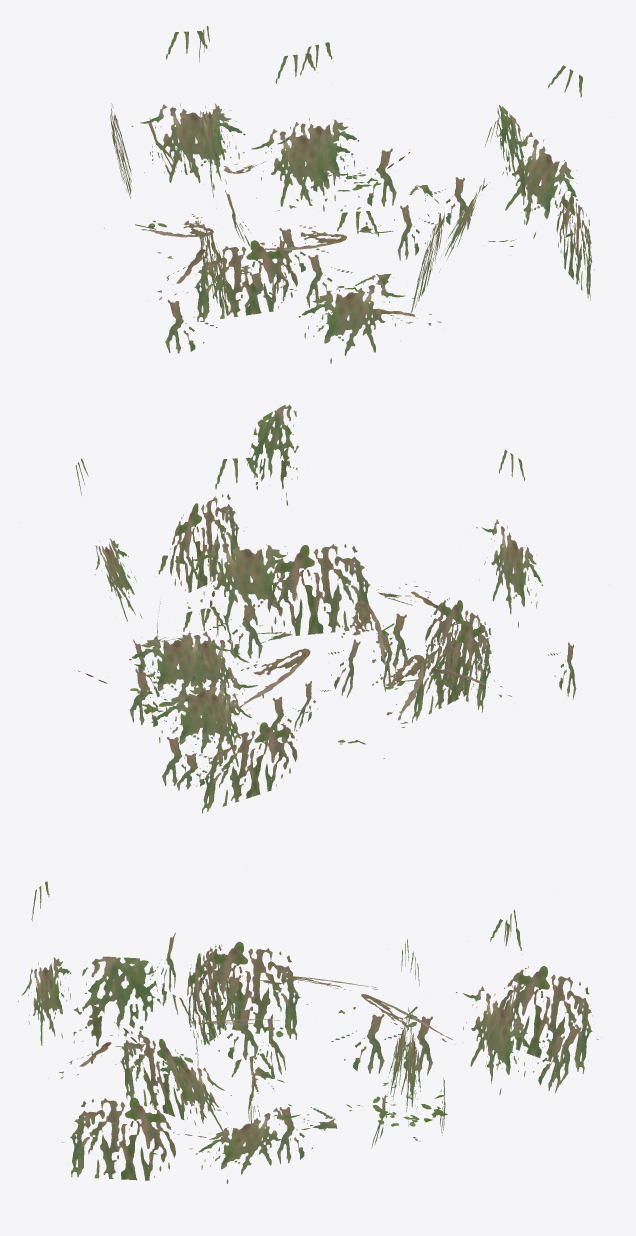
File: tve_grass_02_detail.glb
3 views of the same model, one above another, from view 1: azimuth 30°, elevation 25°; view 2: azimuth 150°, elevation 25°; view 3: azimuth 270°, elevation 25° (orthographic). The views are drawn at different scales.
Parts seen in each view (by area): view 1: TVE_Grass_02_Detail; view 2: TVE_Grass_02_Detail; view 3: TVE_Grass_02_Detail.
Boxes of the visible parts, bbox=[...] form: TVE_Grass_02_Detail: bbox=[104, 26, 594, 363]; TVE_Grass_02_Detail: bbox=[74, 404, 576, 813]; TVE_Grass_02_Detail: bbox=[18, 881, 601, 1183].
Size of the model in its own units: 2.47 by 0.7969 by 2.23.
Materials: 1 (1 with a texture image).
